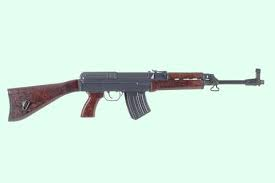Arma Real: (4, 68, 266, 115)
